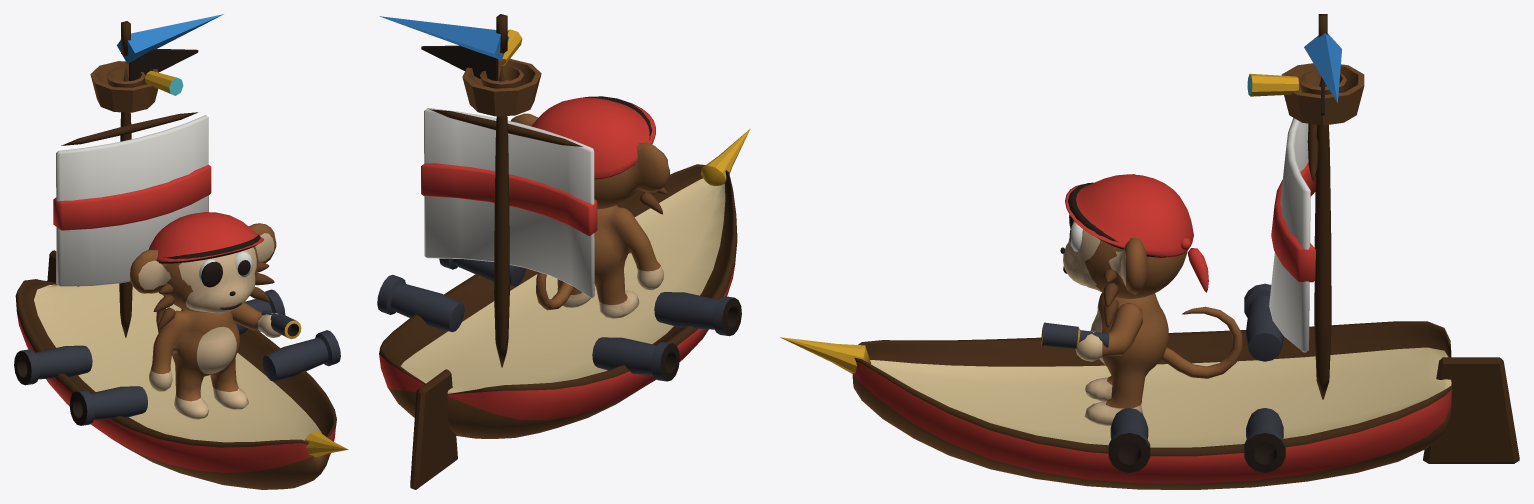
3 views of the same model, side by side, from view 1: azimuth 30°, elevation 25°; view 2: azimuth 150°, elevation 25°; view 3: azimuth 270°, elevation 25° (orthographic). The views are drawn at different scales.
Parts seen in each view (by area): view 1: bucaneiro_0_base, bucaneiro_3_cabeca, bucaneiro_1_corpo, bucaneiro_4_braco; view 2: bucaneiro_0_base, bucaneiro_3_cabeca, bucaneiro_1_corpo, bucaneiro_2_cauda; view 3: bucaneiro_0_base, bucaneiro_3_cabeca, bucaneiro_1_corpo, bucaneiro_4_braco, bucaneiro_2_cauda.
Boxes of the visible parts, left/top/right/bottom form: bucaneiro_0_base: left=14, top=14, right=348, bottom=489; bucaneiro_3_cabeca: left=130, top=212, right=276, bottom=329; bucaneiro_1_corpo: left=149, top=309, right=248, bottom=419; bucaneiro_4_braco: left=231, top=302, right=301, bottom=339; bucaneiro_0_base: left=377, top=14, right=750, bottom=489; bucaneiro_3_cabeca: left=510, top=96, right=669, bottom=214; bucaneiro_1_corpo: left=557, top=205, right=663, bottom=318; bucaneiro_2_cauda: left=536, top=272, right=574, bottom=310; bucaneiro_0_base: left=780, top=14, right=1519, bottom=489; bucaneiro_3_cabeca: left=1060, top=174, right=1208, bottom=327; bucaneiro_1_corpo: left=1084, top=292, right=1168, bottom=425; bucaneiro_4_braco: left=1041, top=303, right=1142, bottom=361; bucaneiro_2_cauda: left=1161, top=306, right=1242, bottom=378.
Size of the model in its own units: 1.12 by 1.54 by 2.3.
